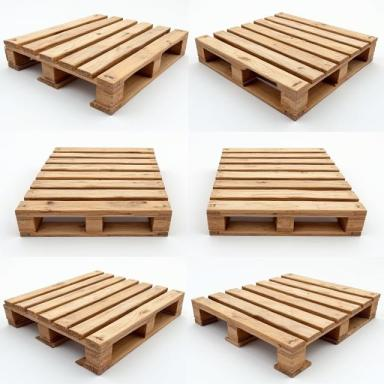pallet: (195, 12, 378, 122), (191, 273, 381, 378), (3, 270, 185, 376), (3, 13, 189, 116), (206, 148, 367, 237), (15, 147, 172, 237)
